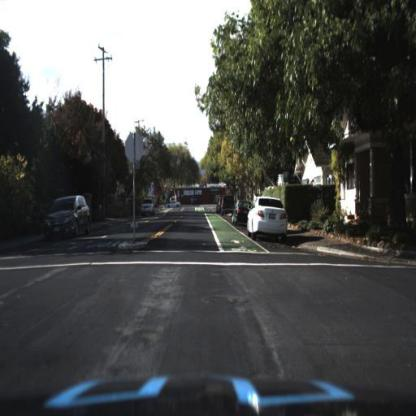car: (44, 191, 90, 236), (247, 194, 290, 239), (230, 199, 251, 227), (142, 196, 157, 215)
